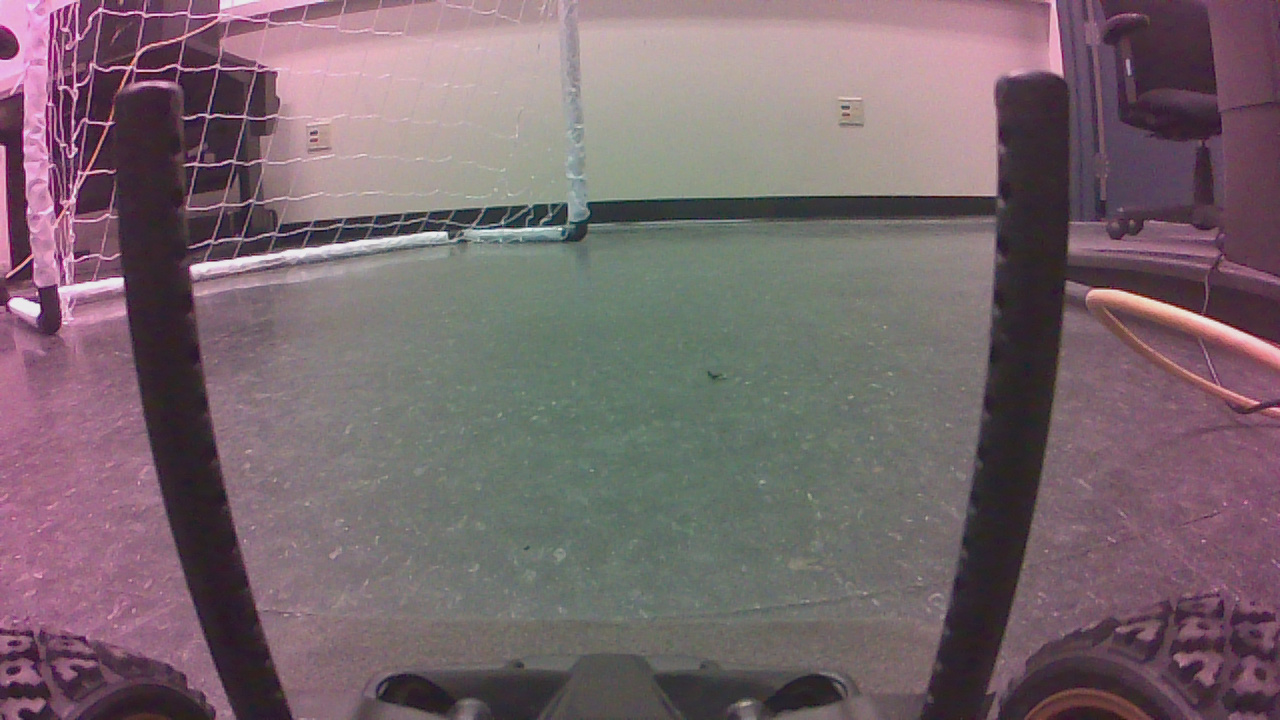goal: (9, 5, 598, 340)
